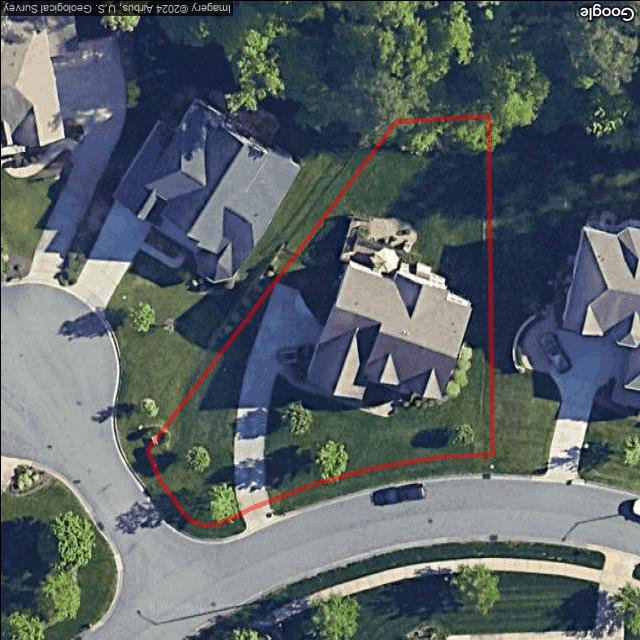Driveway: (232, 282, 322, 513)
Extra-Driveway: (240, 501, 274, 529)
Extra-Lawn: (124, 342, 246, 539), (268, 452, 493, 517), (282, 134, 377, 253)
House: (303, 265, 473, 401)
Lawn: (147, 115, 491, 525)
Other: (330, 210, 423, 274), (399, 342, 472, 408)
Sidewalk: (278, 366, 403, 418)
